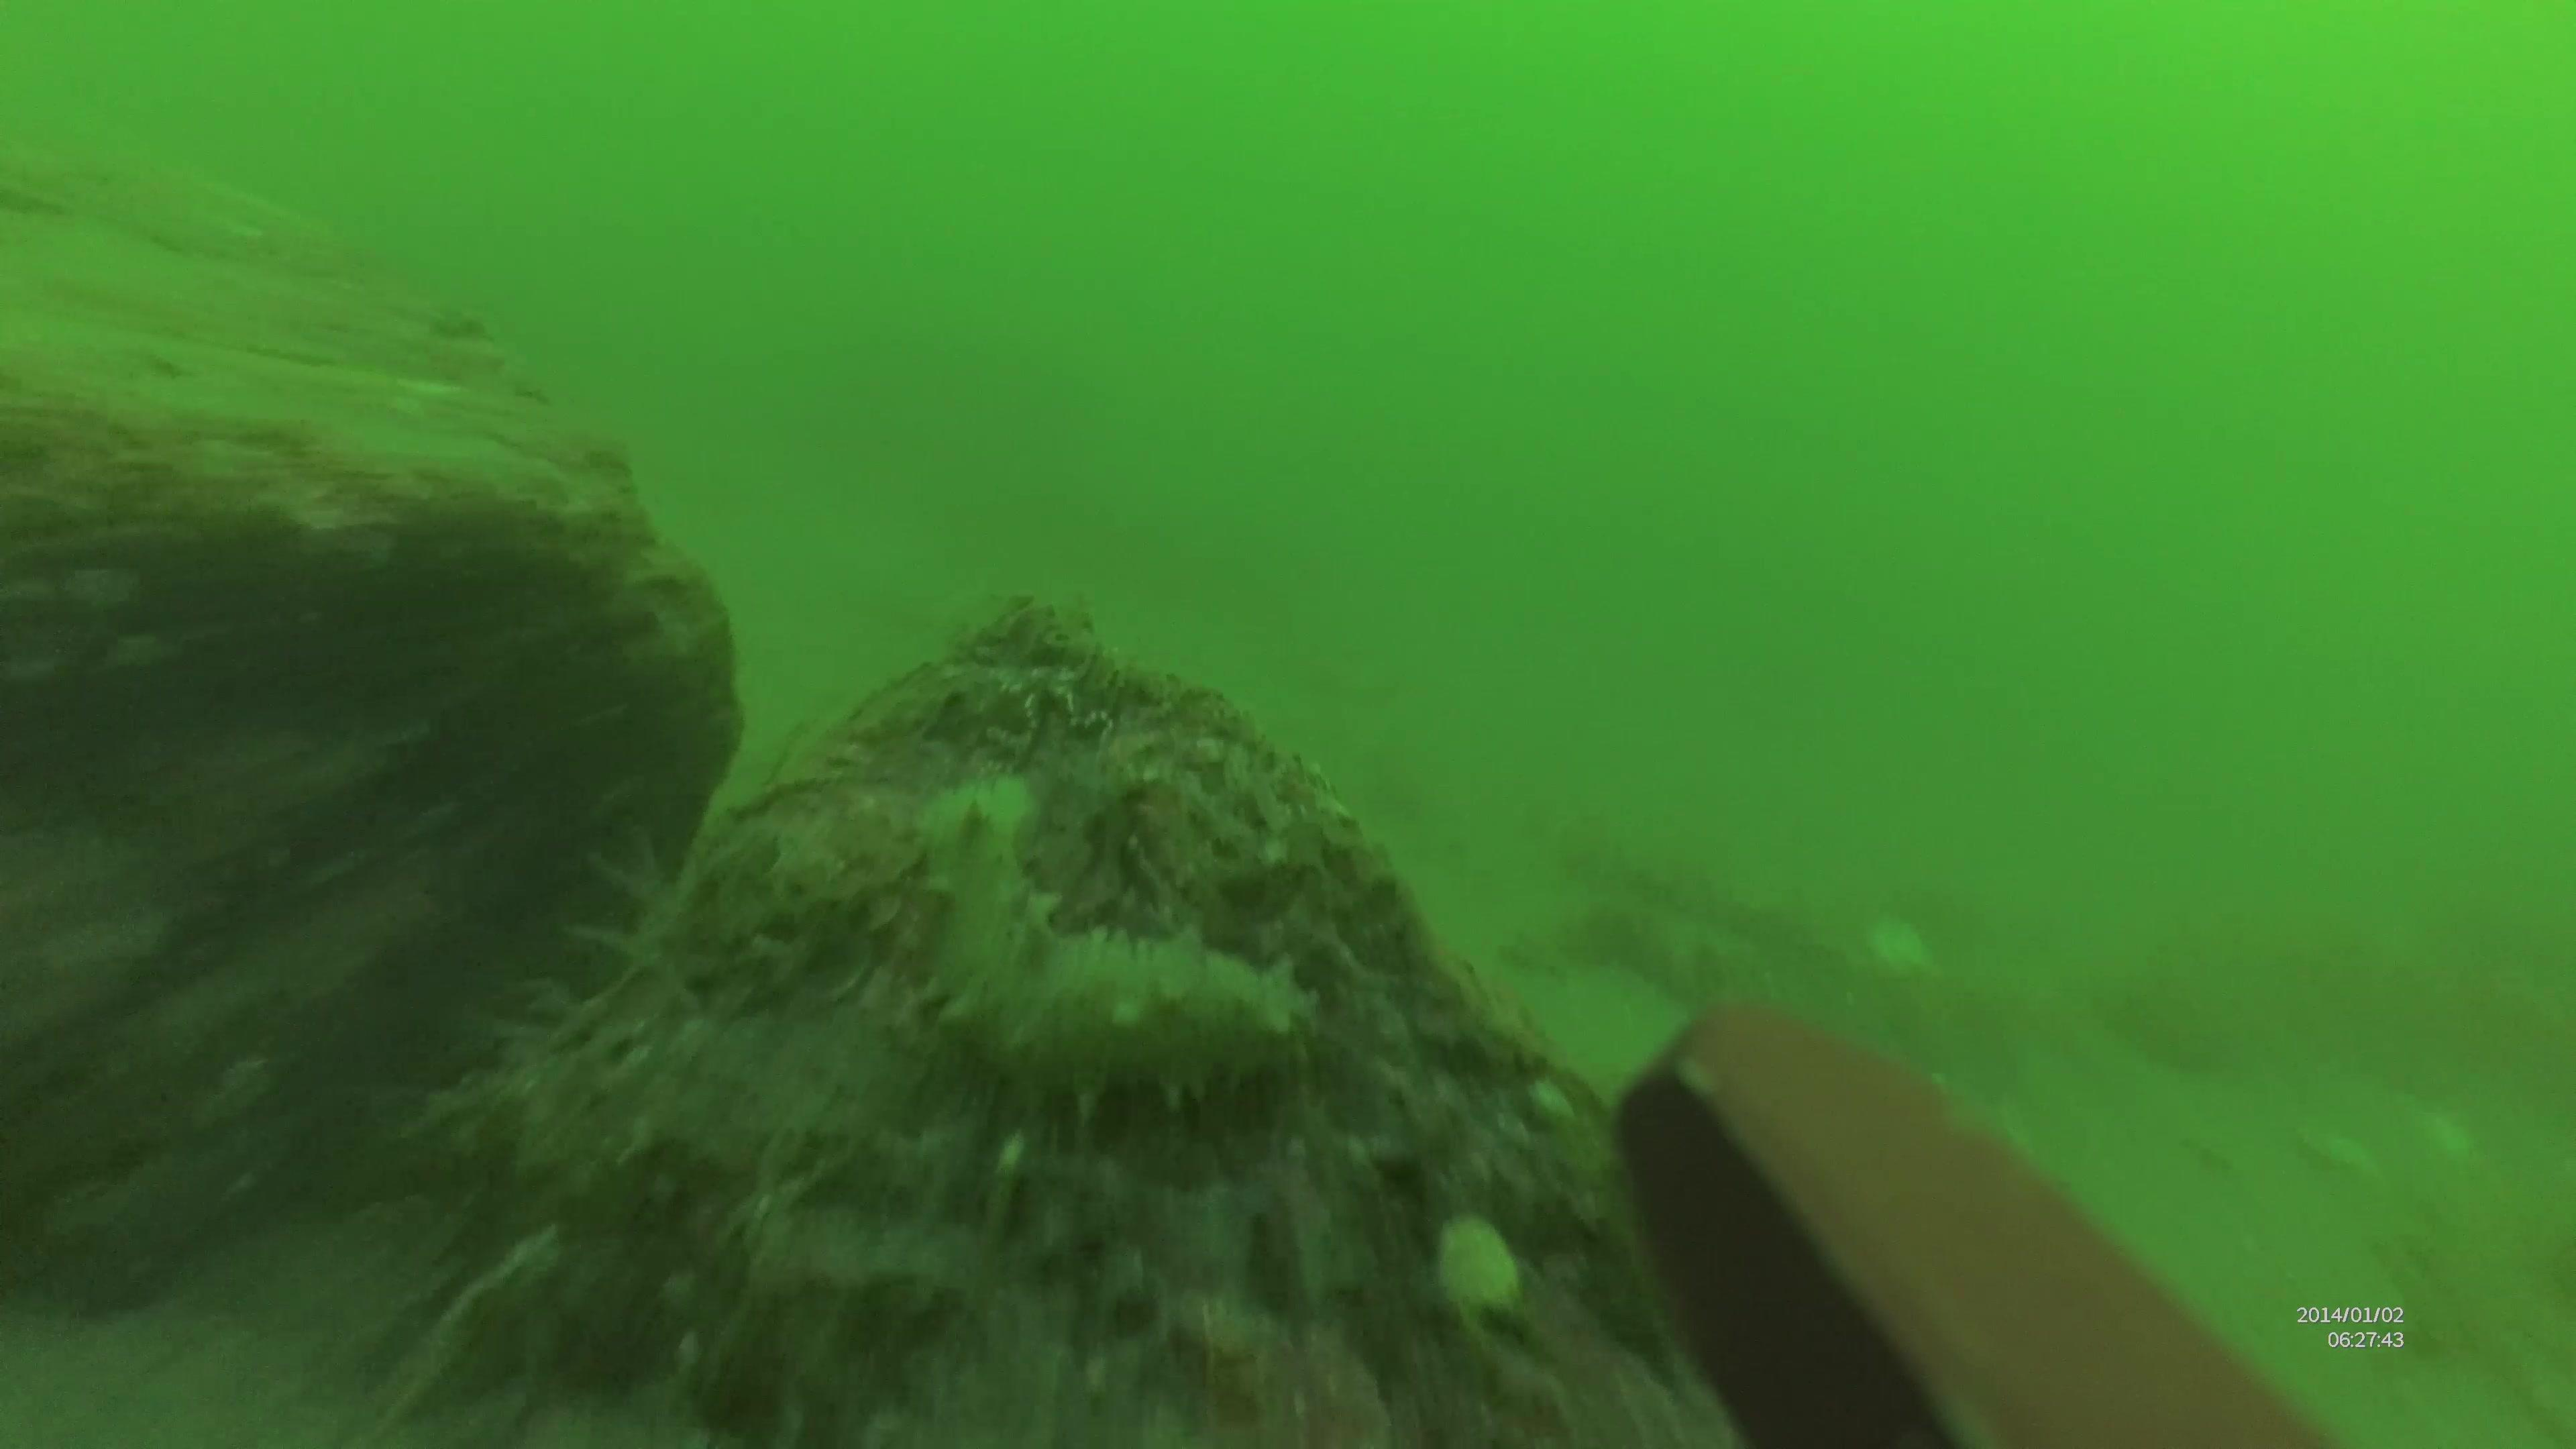holothurian: (899, 771, 1325, 1104)
